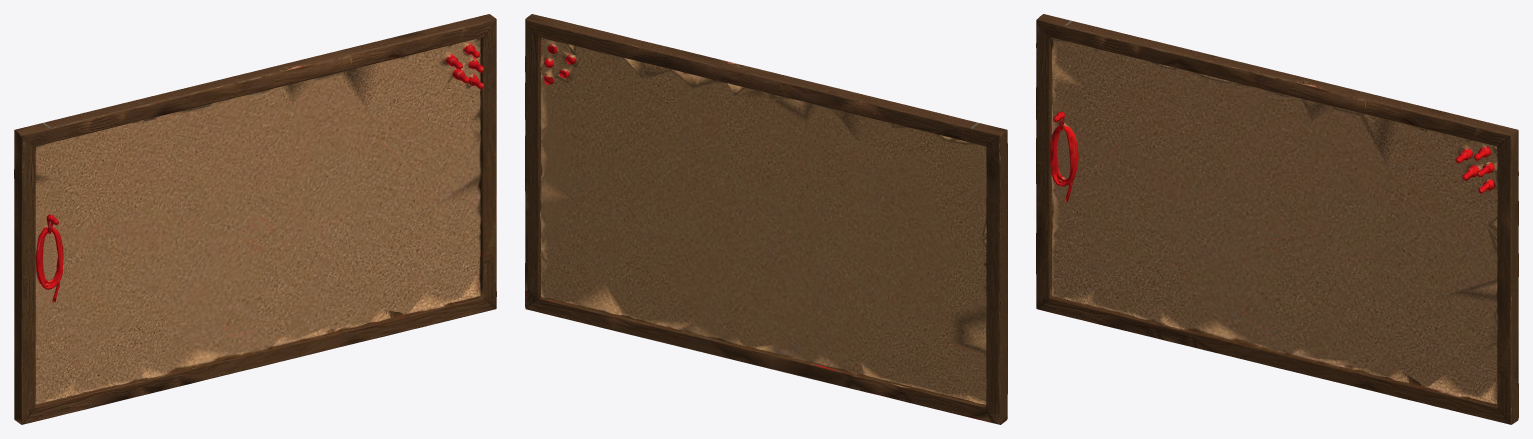
Rendered from board.glb.
The picture shows the model from 3 angles, left to right: view 1: azimuth 30°, elevation 25°; view 2: azimuth 150°, elevation 25°; view 3: azimuth 330°, elevation 25°; orthographic projection.
Size of the model in its own units: 1.9 by 1.11 by 0.1194.
Materials: 1 (1 with a texture image).
